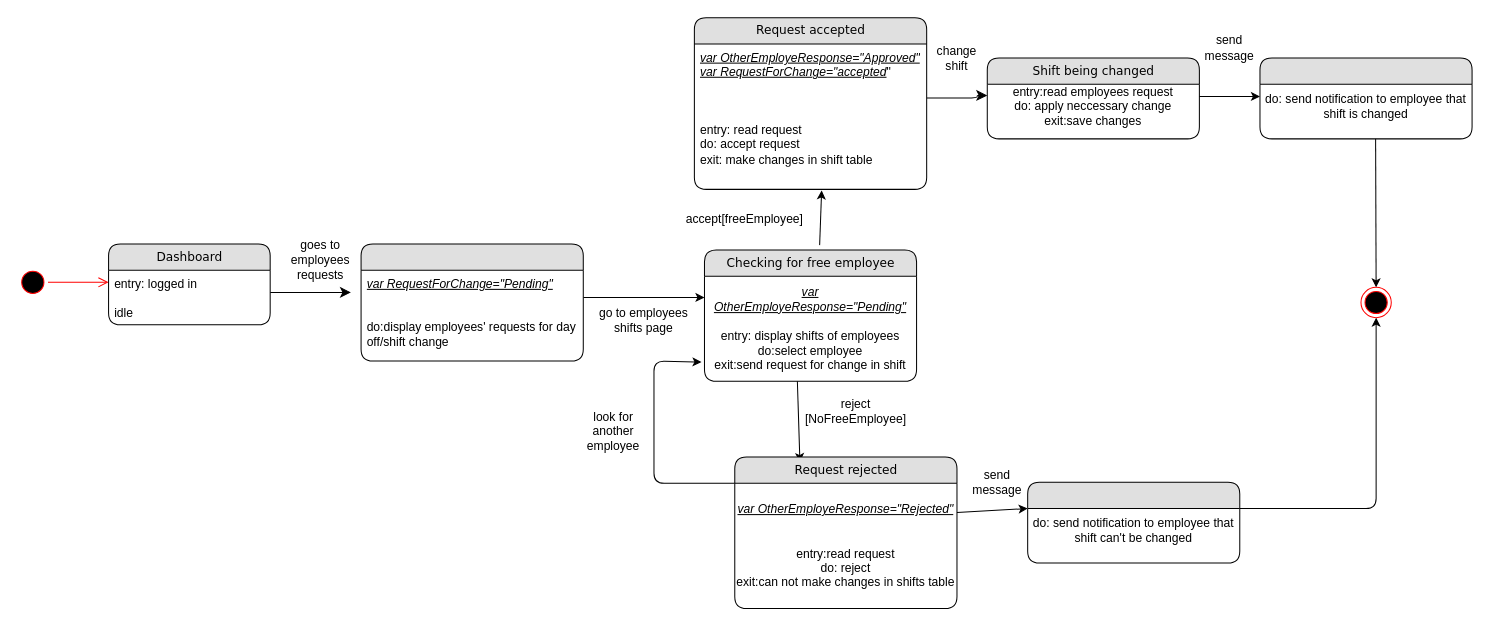
This 1490x626 diagram has some shape labels left out. The shapes that lost their labels are listed below. From the top down, each one's box as (x1, y1, x2, y2) in pixels, then its label:
(1259, 57, 1472, 139): Employee notified on approval
(360, 243, 583, 361): Employees requests section
(1027, 481, 1240, 563): Employee notified on rejection
